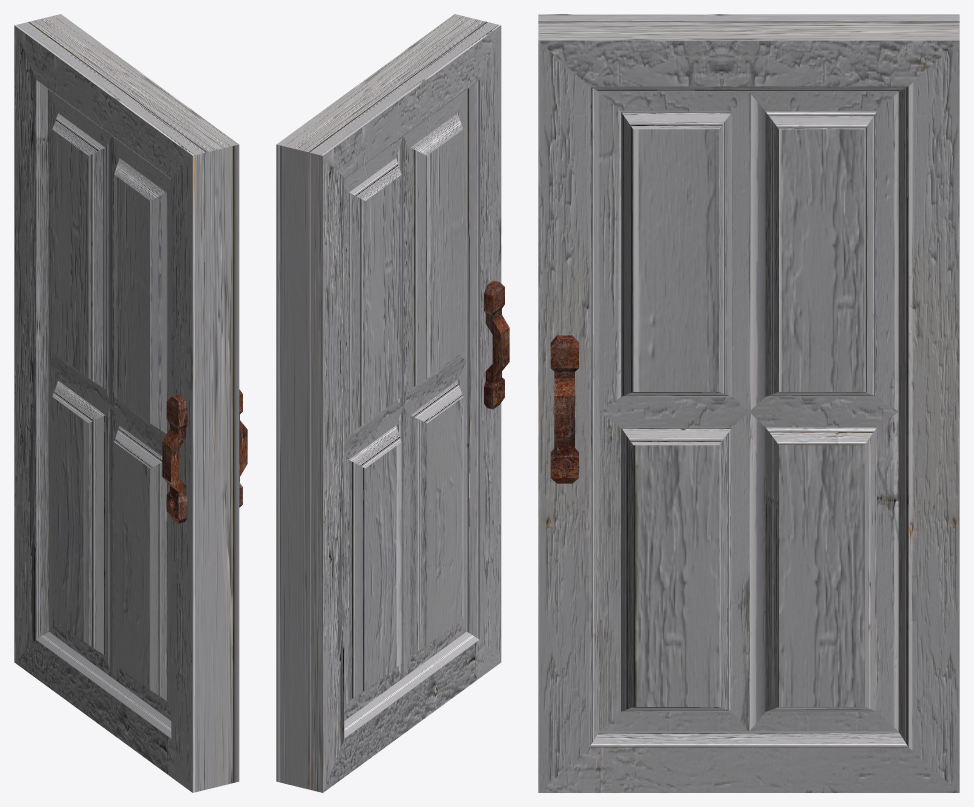
Rendered from Big_door.glb.
The picture shows the model from 3 angles, left to right: view 1: azimuth 30°, elevation 25°; view 2: azimuth 150°, elevation 25°; view 3: azimuth 270°, elevation 25°; orthographic projection. The views are drawn at different scales.
Visible parts, largest first — view 1: Door; view 2: Door; view 3: Door.
Boxes of the visible parts, x1,y1,x2,y2 form: Door: [14, 14, 247, 792]; Door: [276, 14, 509, 792]; Door: [538, 14, 959, 792].
Bounding box in the file's own units: 2.18 × 17.3 × 8.77.
3 materials, 3 textured.
